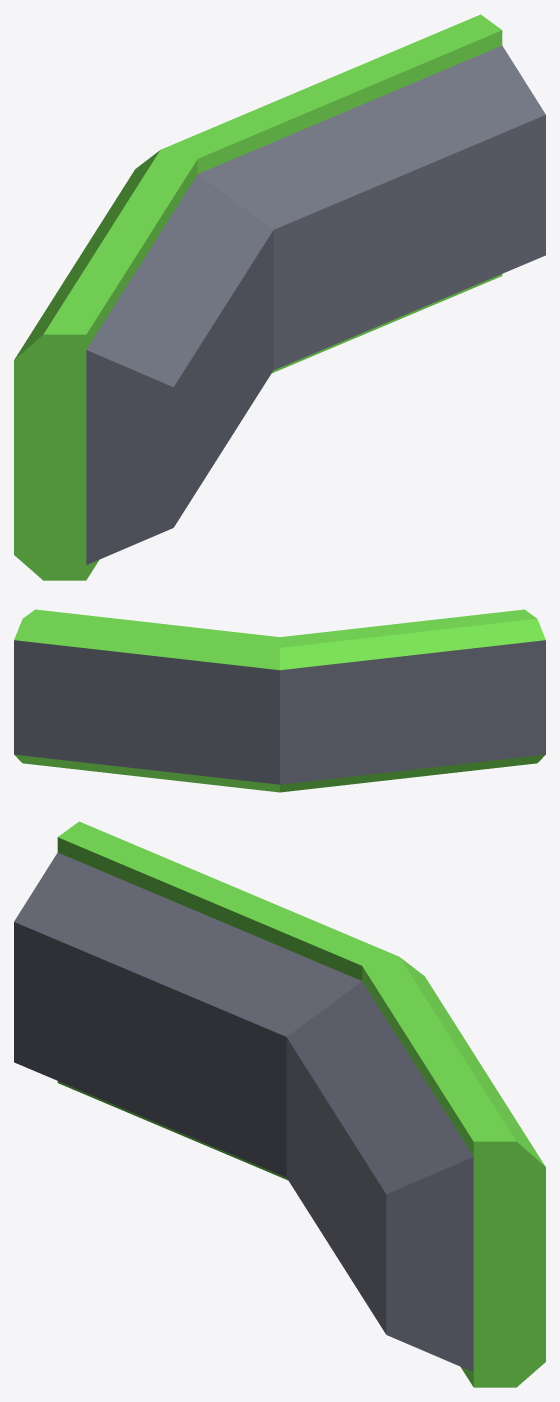
Rendered from target_0_arc.fbx.
3 views of the same model, one above another, from view 1: azimuth 30°, elevation 25°; view 2: azimuth 150°, elevation 25°; view 3: azimuth 270°, elevation 25° (orthographic). The views are drawn at different scales.
Visible parts, largest first — view 1: target_0_arc; view 2: target_0_arc; view 3: target_0_arc.
Boxes of the visible parts, x1,y1,x2,y2 form: target_0_arc: (14, 14, 545, 580); target_0_arc: (14, 609, 545, 792); target_0_arc: (14, 821, 545, 1387).
Size of the model in its own units: 86.6 by 30 by 58.83.
